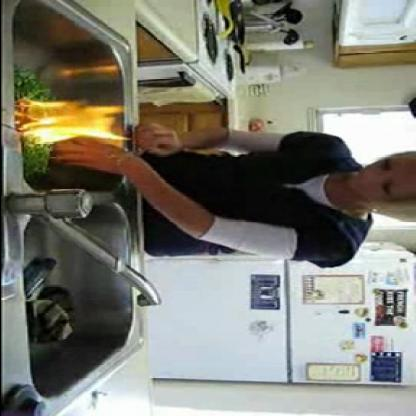Fire: (34, 105, 115, 141)
